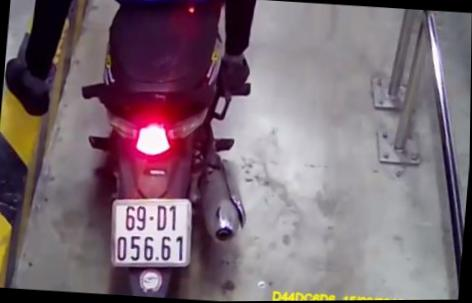LP: (105, 193, 200, 272)
